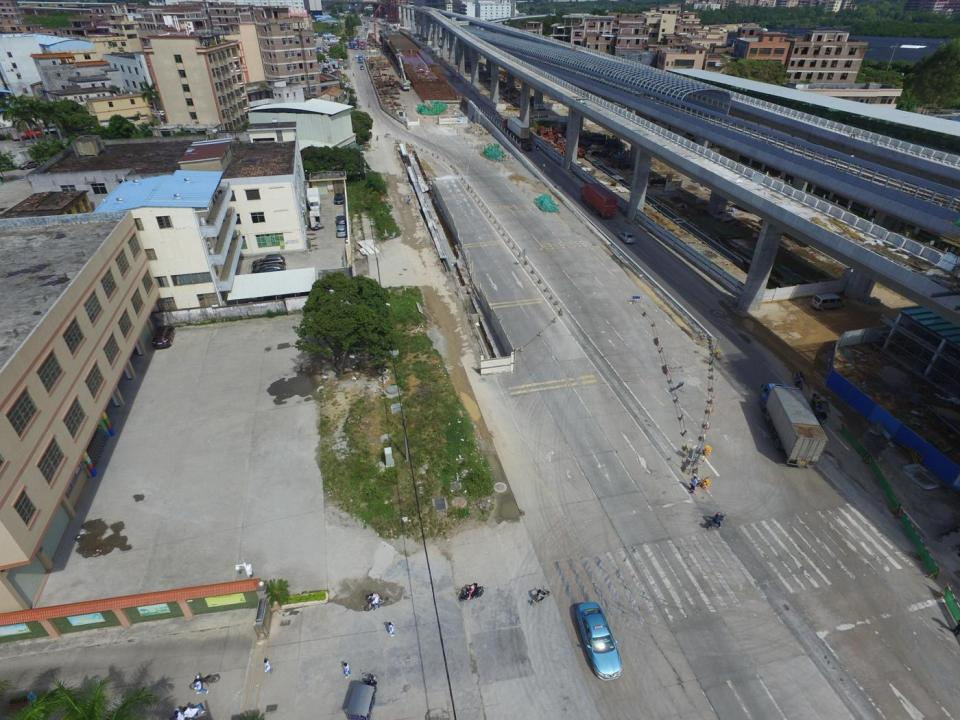car: (577, 602, 622, 681), (154, 323, 176, 349), (252, 255, 286, 268), (252, 265, 286, 275), (617, 232, 636, 244), (332, 194, 344, 204), (336, 225, 346, 237), (334, 216, 346, 226), (521, 142, 532, 152), (360, 64, 365, 70), (354, 53, 358, 57)
truck: (757, 384, 828, 468), (579, 183, 618, 219), (503, 118, 530, 142), (306, 187, 321, 212), (309, 210, 322, 230), (395, 78, 410, 91), (359, 56, 362, 62)
van: (811, 294, 846, 310)
